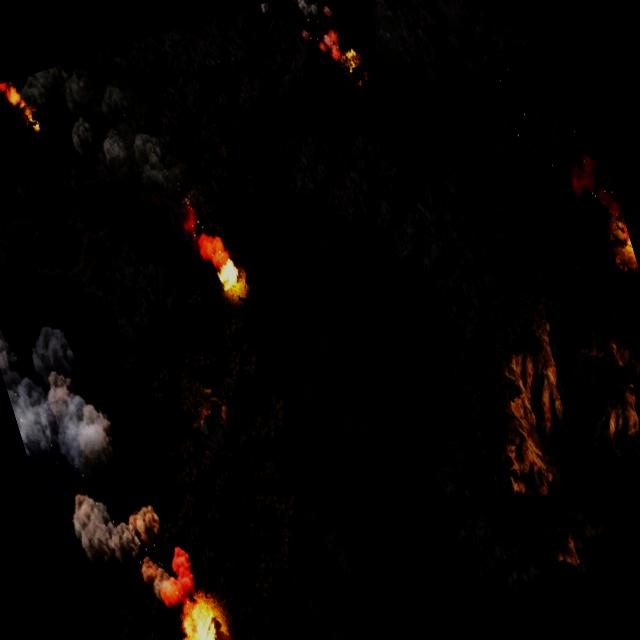fire: (169, 585, 237, 640), (288, 0, 341, 64), (3, 76, 42, 138), (212, 253, 249, 301), (337, 42, 370, 94)
smoke: (12, 37, 225, 319), (0, 296, 129, 499), (63, 467, 201, 627), (556, 143, 626, 239), (178, 386, 247, 474)
